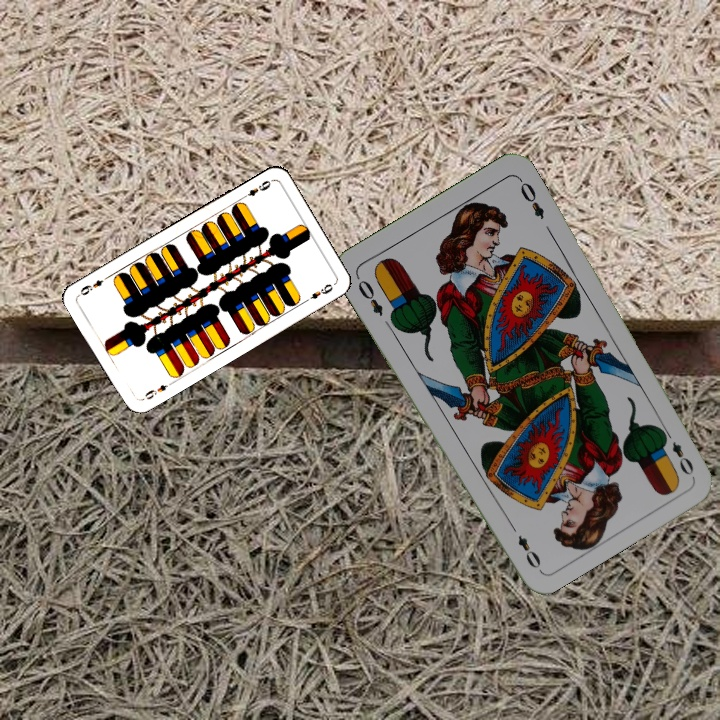E9: (138, 378, 175, 403), (238, 176, 273, 202)
EO: (657, 425, 697, 478), (354, 275, 386, 319)
